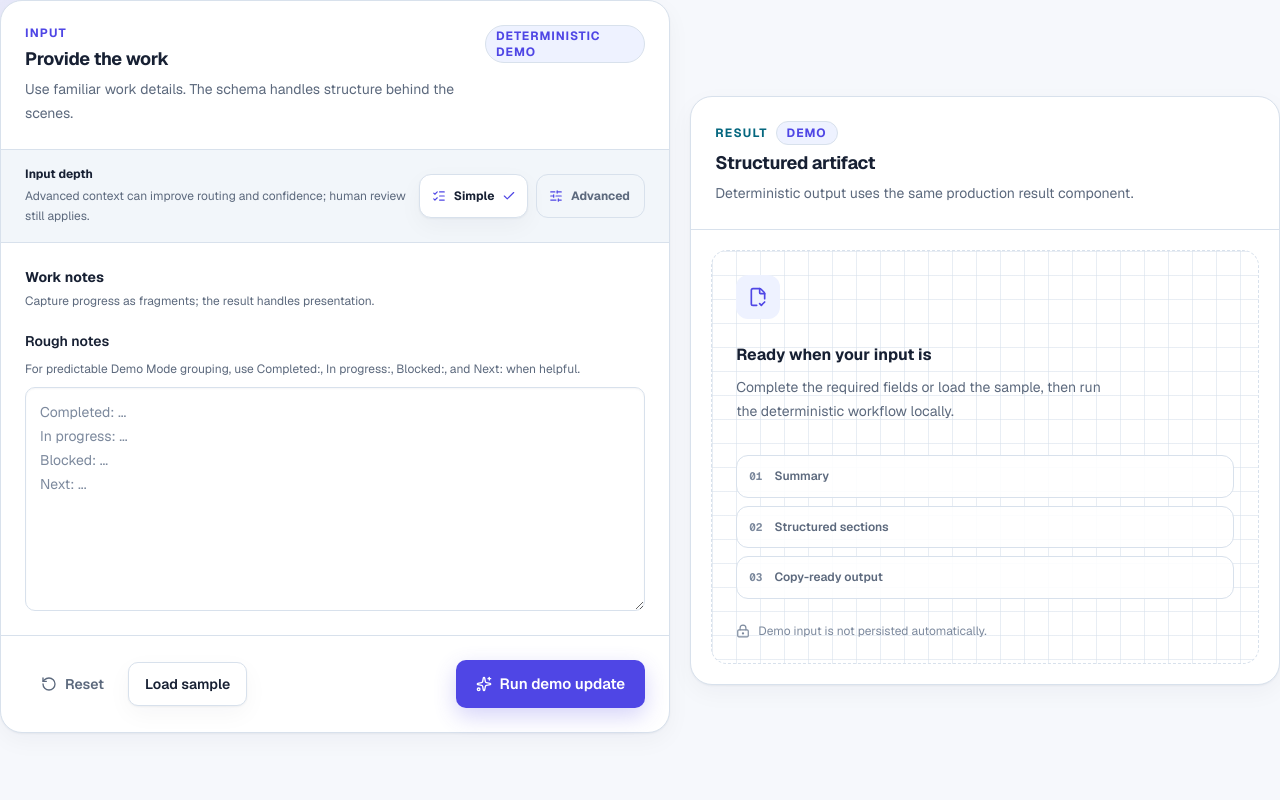
Demo Mode workflow runner › loads sample input and renders the status-update result
Click the button "Load sample".
click(188, 684)  # box [128, 662, 247, 706]
(page scrolled)
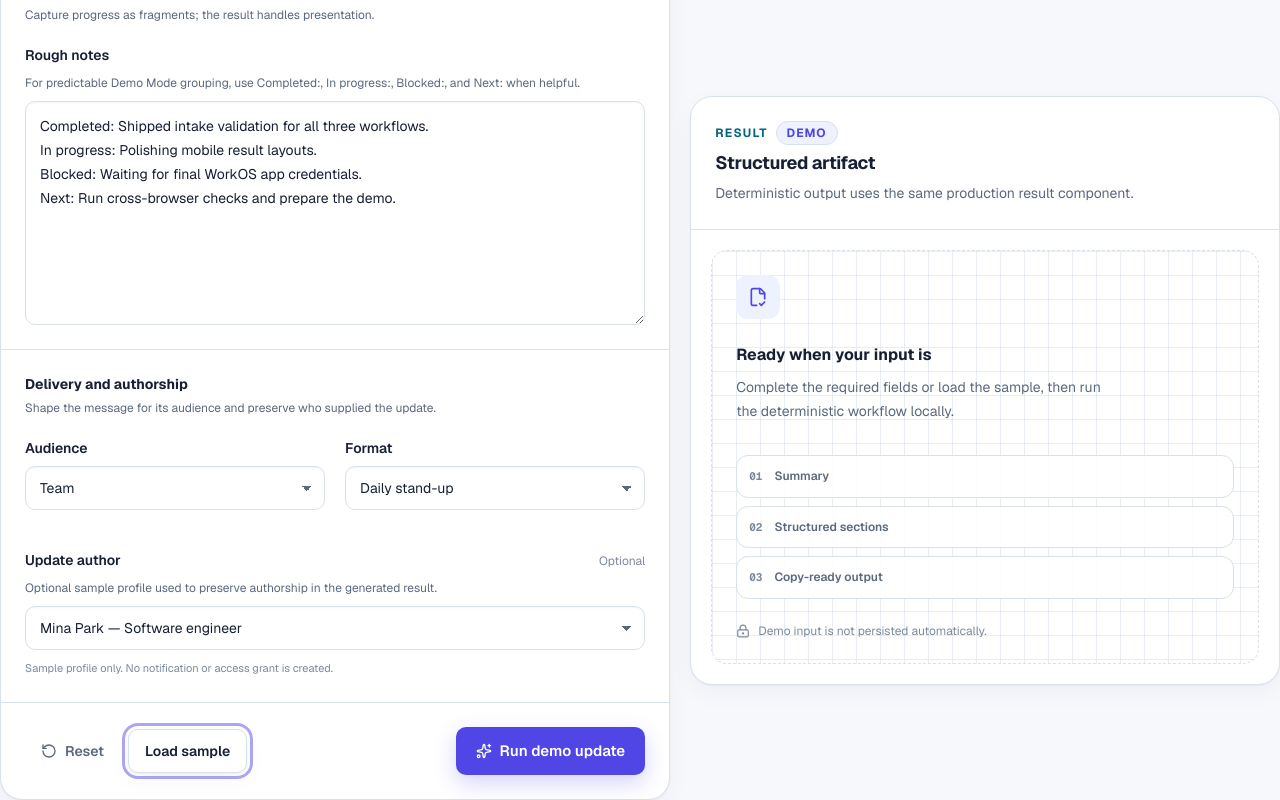
Click the button "Run demo update".
click(550, 751)  # box [456, 727, 645, 775]
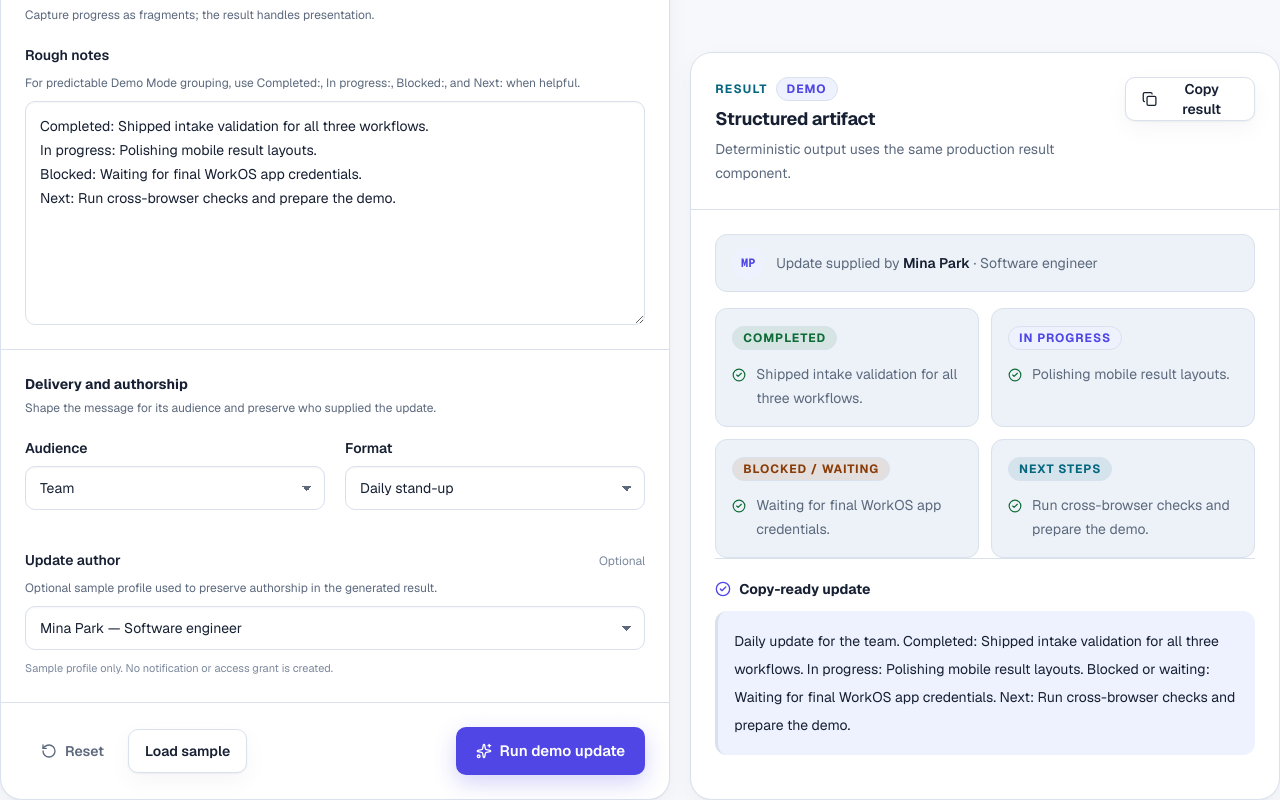
expect the heading "Copy-ready update" is shown: met, box [715, 580, 870, 598]
expect the button "Copy result" is shown: met, box [1125, 77, 1255, 121]
